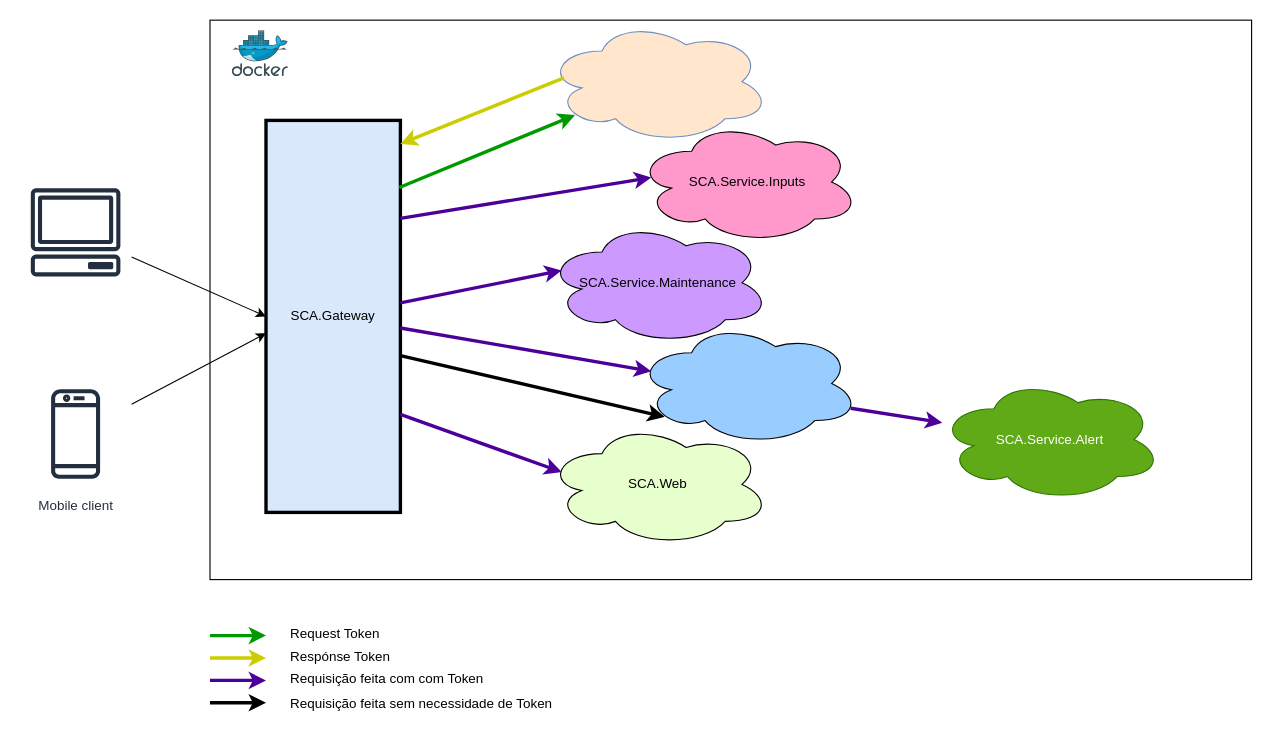
This 1271x735 diagram has some shape labels left out. The shapes that lost their labels are listed below. From the top down, each one's centre as x and y in pixels, then its label:
At point 657,81: "SCA.Service.Auth".
At point 75,231: "Client".
At point 747,383: "SCA.Service.Monitoring".
